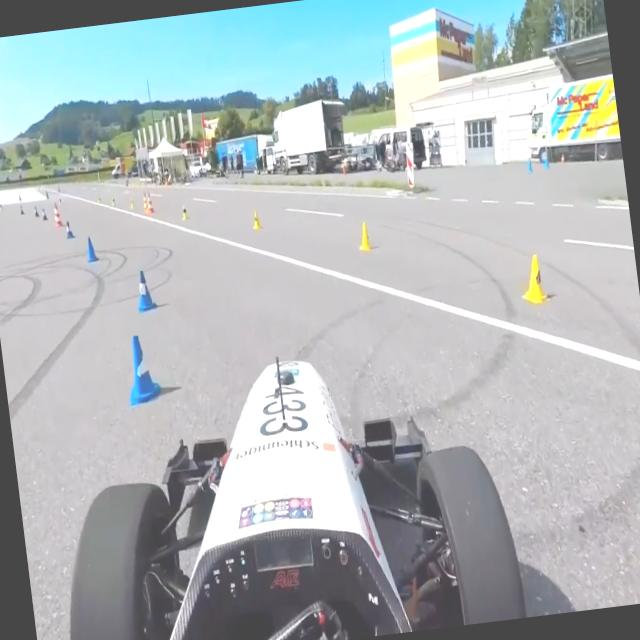blue_cone: (121, 332, 162, 406), (133, 269, 157, 313), (84, 234, 100, 264), (64, 218, 74, 240)
large_orange_cone: (52, 201, 63, 228), (145, 192, 155, 214), (141, 191, 150, 213)
yellow_cone: (516, 251, 550, 307), (356, 219, 374, 253), (251, 207, 262, 230), (180, 202, 190, 220)
